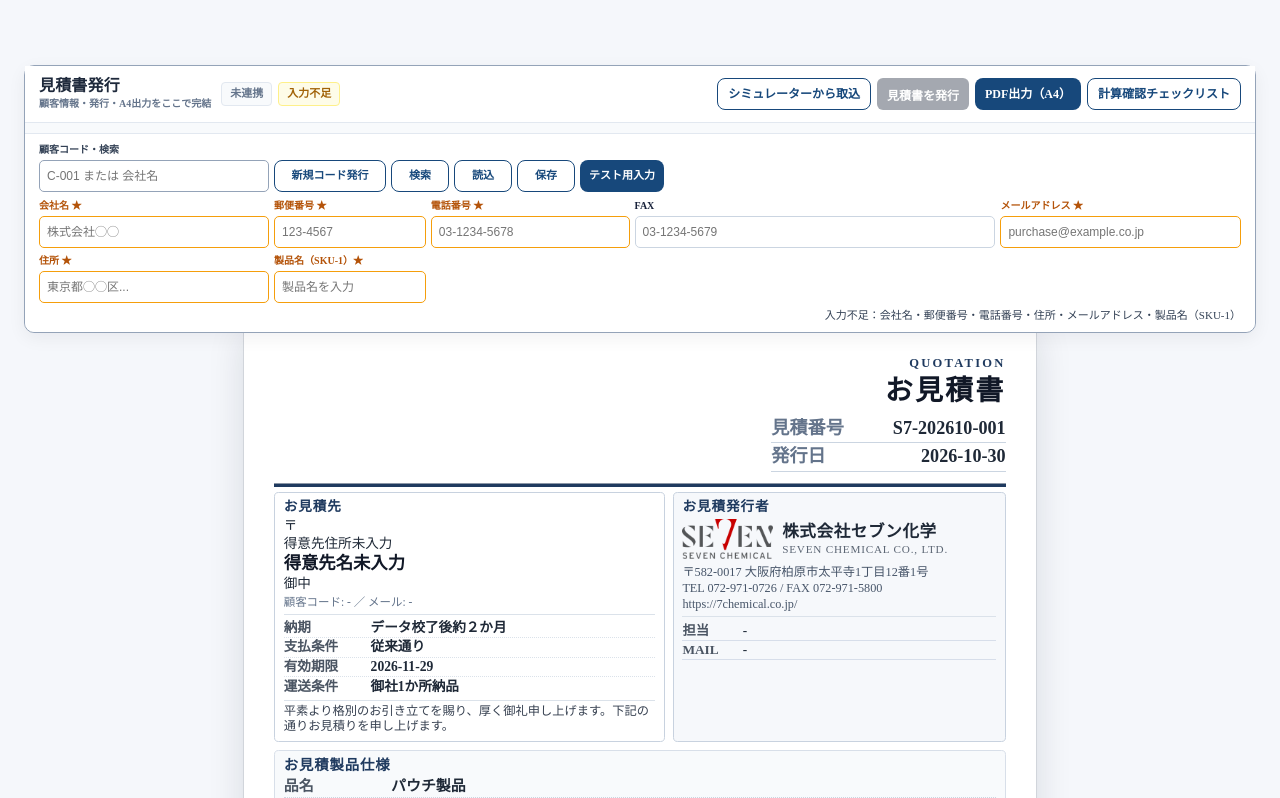
it: quotation issuance canonical PDF › does not create a client-visible record when atomic issuance is rejected
This screenshot has width=1280, height=798.
Click the button with test id "fill-test-data" at (622, 176), box [580,160,664,192]
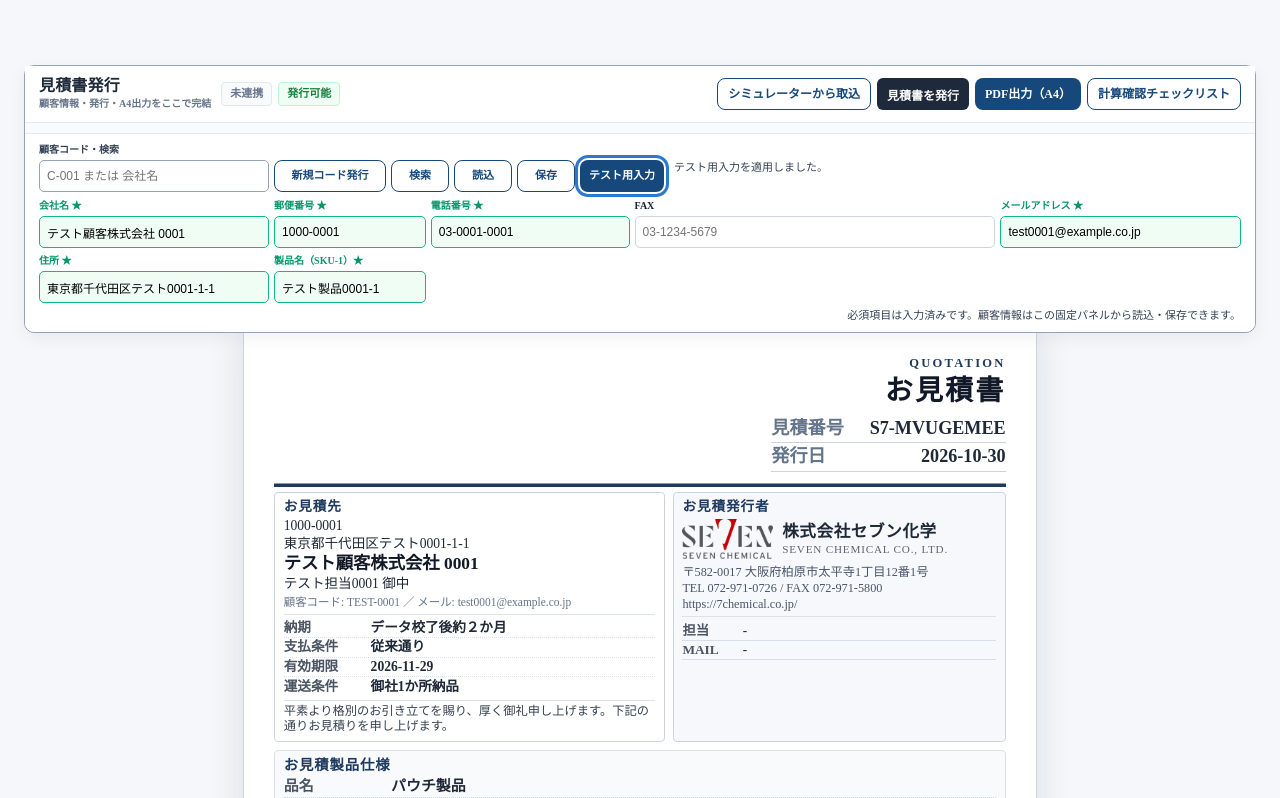
Check: the button with test id "save-history" is enabled
Click the button with test id "save-history" at (923, 94), box [877,78,969,110]
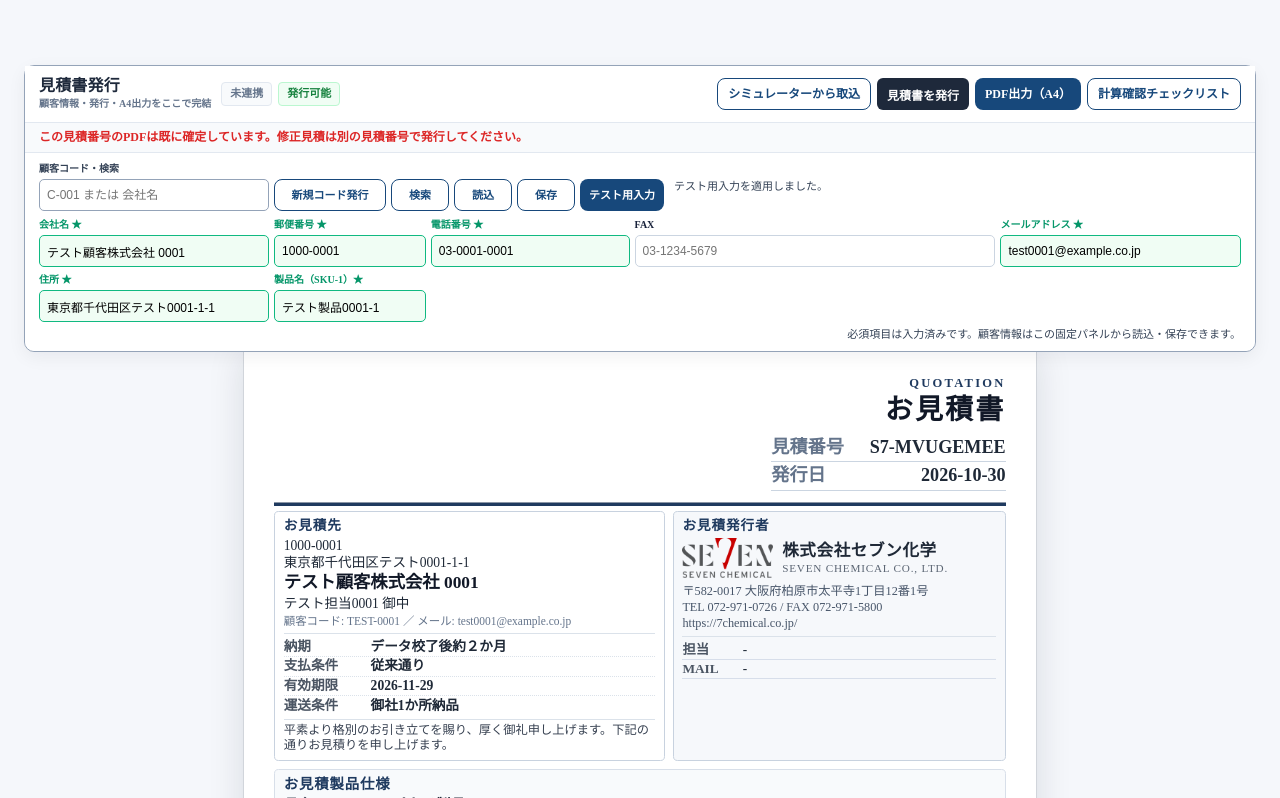
Check: the button with test id "save-history" is enabled, box [877,78,969,110]
Check: the message with test id "save-error" reads "この見積番号のPDFは既に確定しています。修正見積は別の見積番号で発行してください。", box [39,130,528,144]
